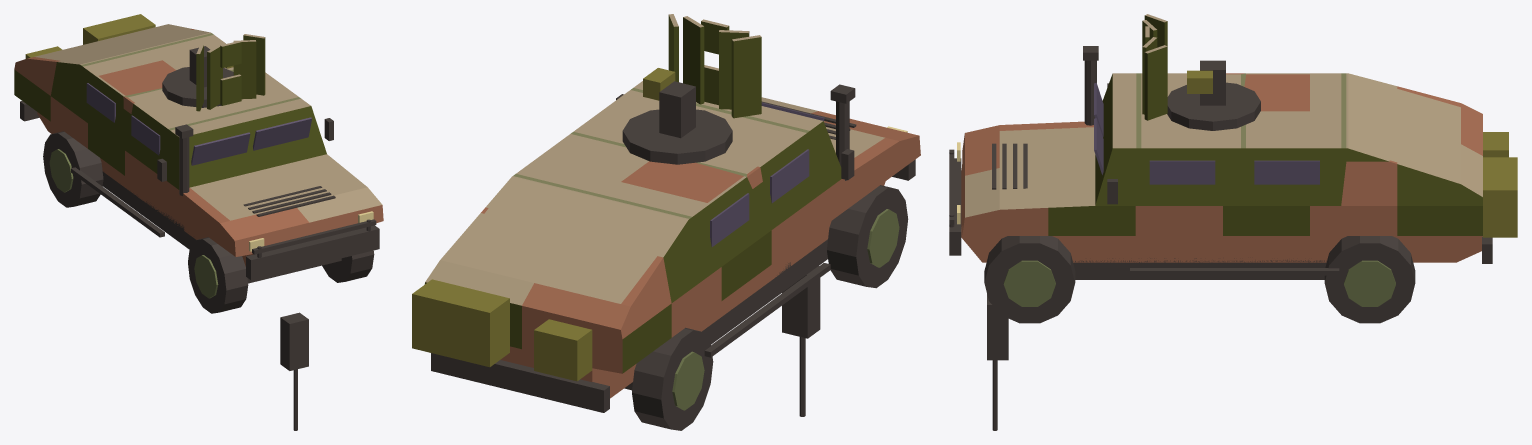
The model's file is SM_Vamtac_Animable_v3_Embarrado_LOD0.fbx.
The picture shows the model from 3 angles, left to right: view 1: azimuth 30°, elevation 25°; view 2: azimuth 150°, elevation 25°; view 3: azimuth 270°, elevation 25°; orthographic projection. The views are drawn at different scales.
Visible parts, largest first — view 1: SM_bloques.vamtac_animable_v3_LOD0, Aro, Rueda_1R, Rueda_2R, Ametralladora, Rueda_1L; view 2: SM_bloques.vamtac_animable_v3_LOD0, Aro, Rueda_1R, Rueda_2R, Ametralladora; view 3: SM_bloques.vamtac_animable_v3_LOD0, Aro, Rueda_1L, Rueda_2L, Ametralladora.
Part boxes in pixels (x1,y1,x2,y2): SM_bloques.vamtac_animable_v3_LOD0: (14,14,383,283); Aro: (162,34,265,111); Rueda_1R: (188,237,248,313); Rueda_2R: (43,131,103,207); Ametralladora: (280,312,308,430); Rueda_1L: (322,250,374,282); SM_bloques.vamtac_animable_v3_LOD0: (412,81,920,412); Aro: (622,14,761,164); Rueda_1R: (827,185,908,288); Rueda_2R: (632,327,713,430); Ametralladora: (782,266,820,416); SM_bloques.vamtac_animable_v3_LOD0: (949,46,1517,279); Aro: (1142,14,1260,130); Rueda_1L: (984,236,1075,323); Rueda_2L: (1324,236,1415,323); Ametralladora: (987,294,1008,430).
Bounding box in the file's own units: 2.68 × 5.04 × 6.52.
